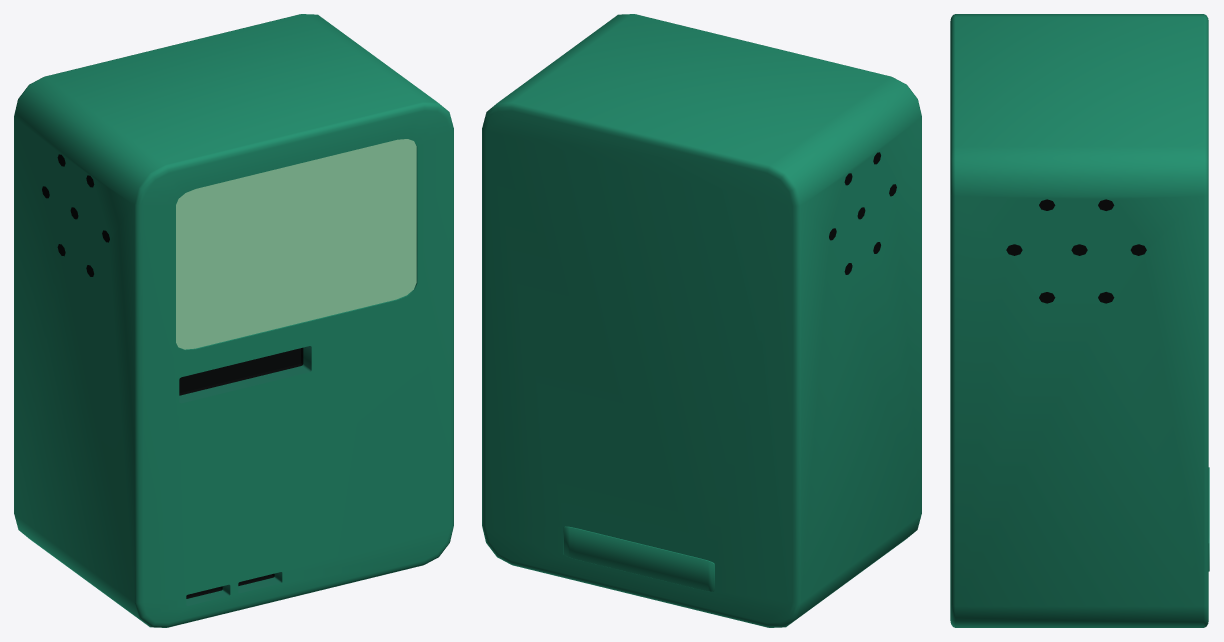
The model's file is Bmo_cuerpo.obj.
The picture shows the model from 3 angles, left to right: view 1: azimuth 30°, elevation 25°; view 2: azimuth 150°, elevation 25°; view 3: azimuth 270°, elevation 25°; orthographic projection. The views are drawn at different scales.
Visible parts, largest first — view 1: Bmo_cuerpo; view 2: Bmo_cuerpo; view 3: Bmo_cuerpo.
Part boxes in pixels (bbox=[...]): Bmo_cuerpo: bbox=[14, 14, 453, 627]; Bmo_cuerpo: bbox=[482, 14, 921, 627]; Bmo_cuerpo: bbox=[950, 14, 1209, 627].
Bounding box in the file's own units: 0.8229 × 1.14 × 0.5616.
